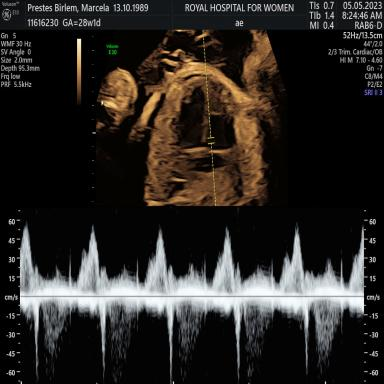Ultrasound-Waves: (26, 212, 362, 384)
